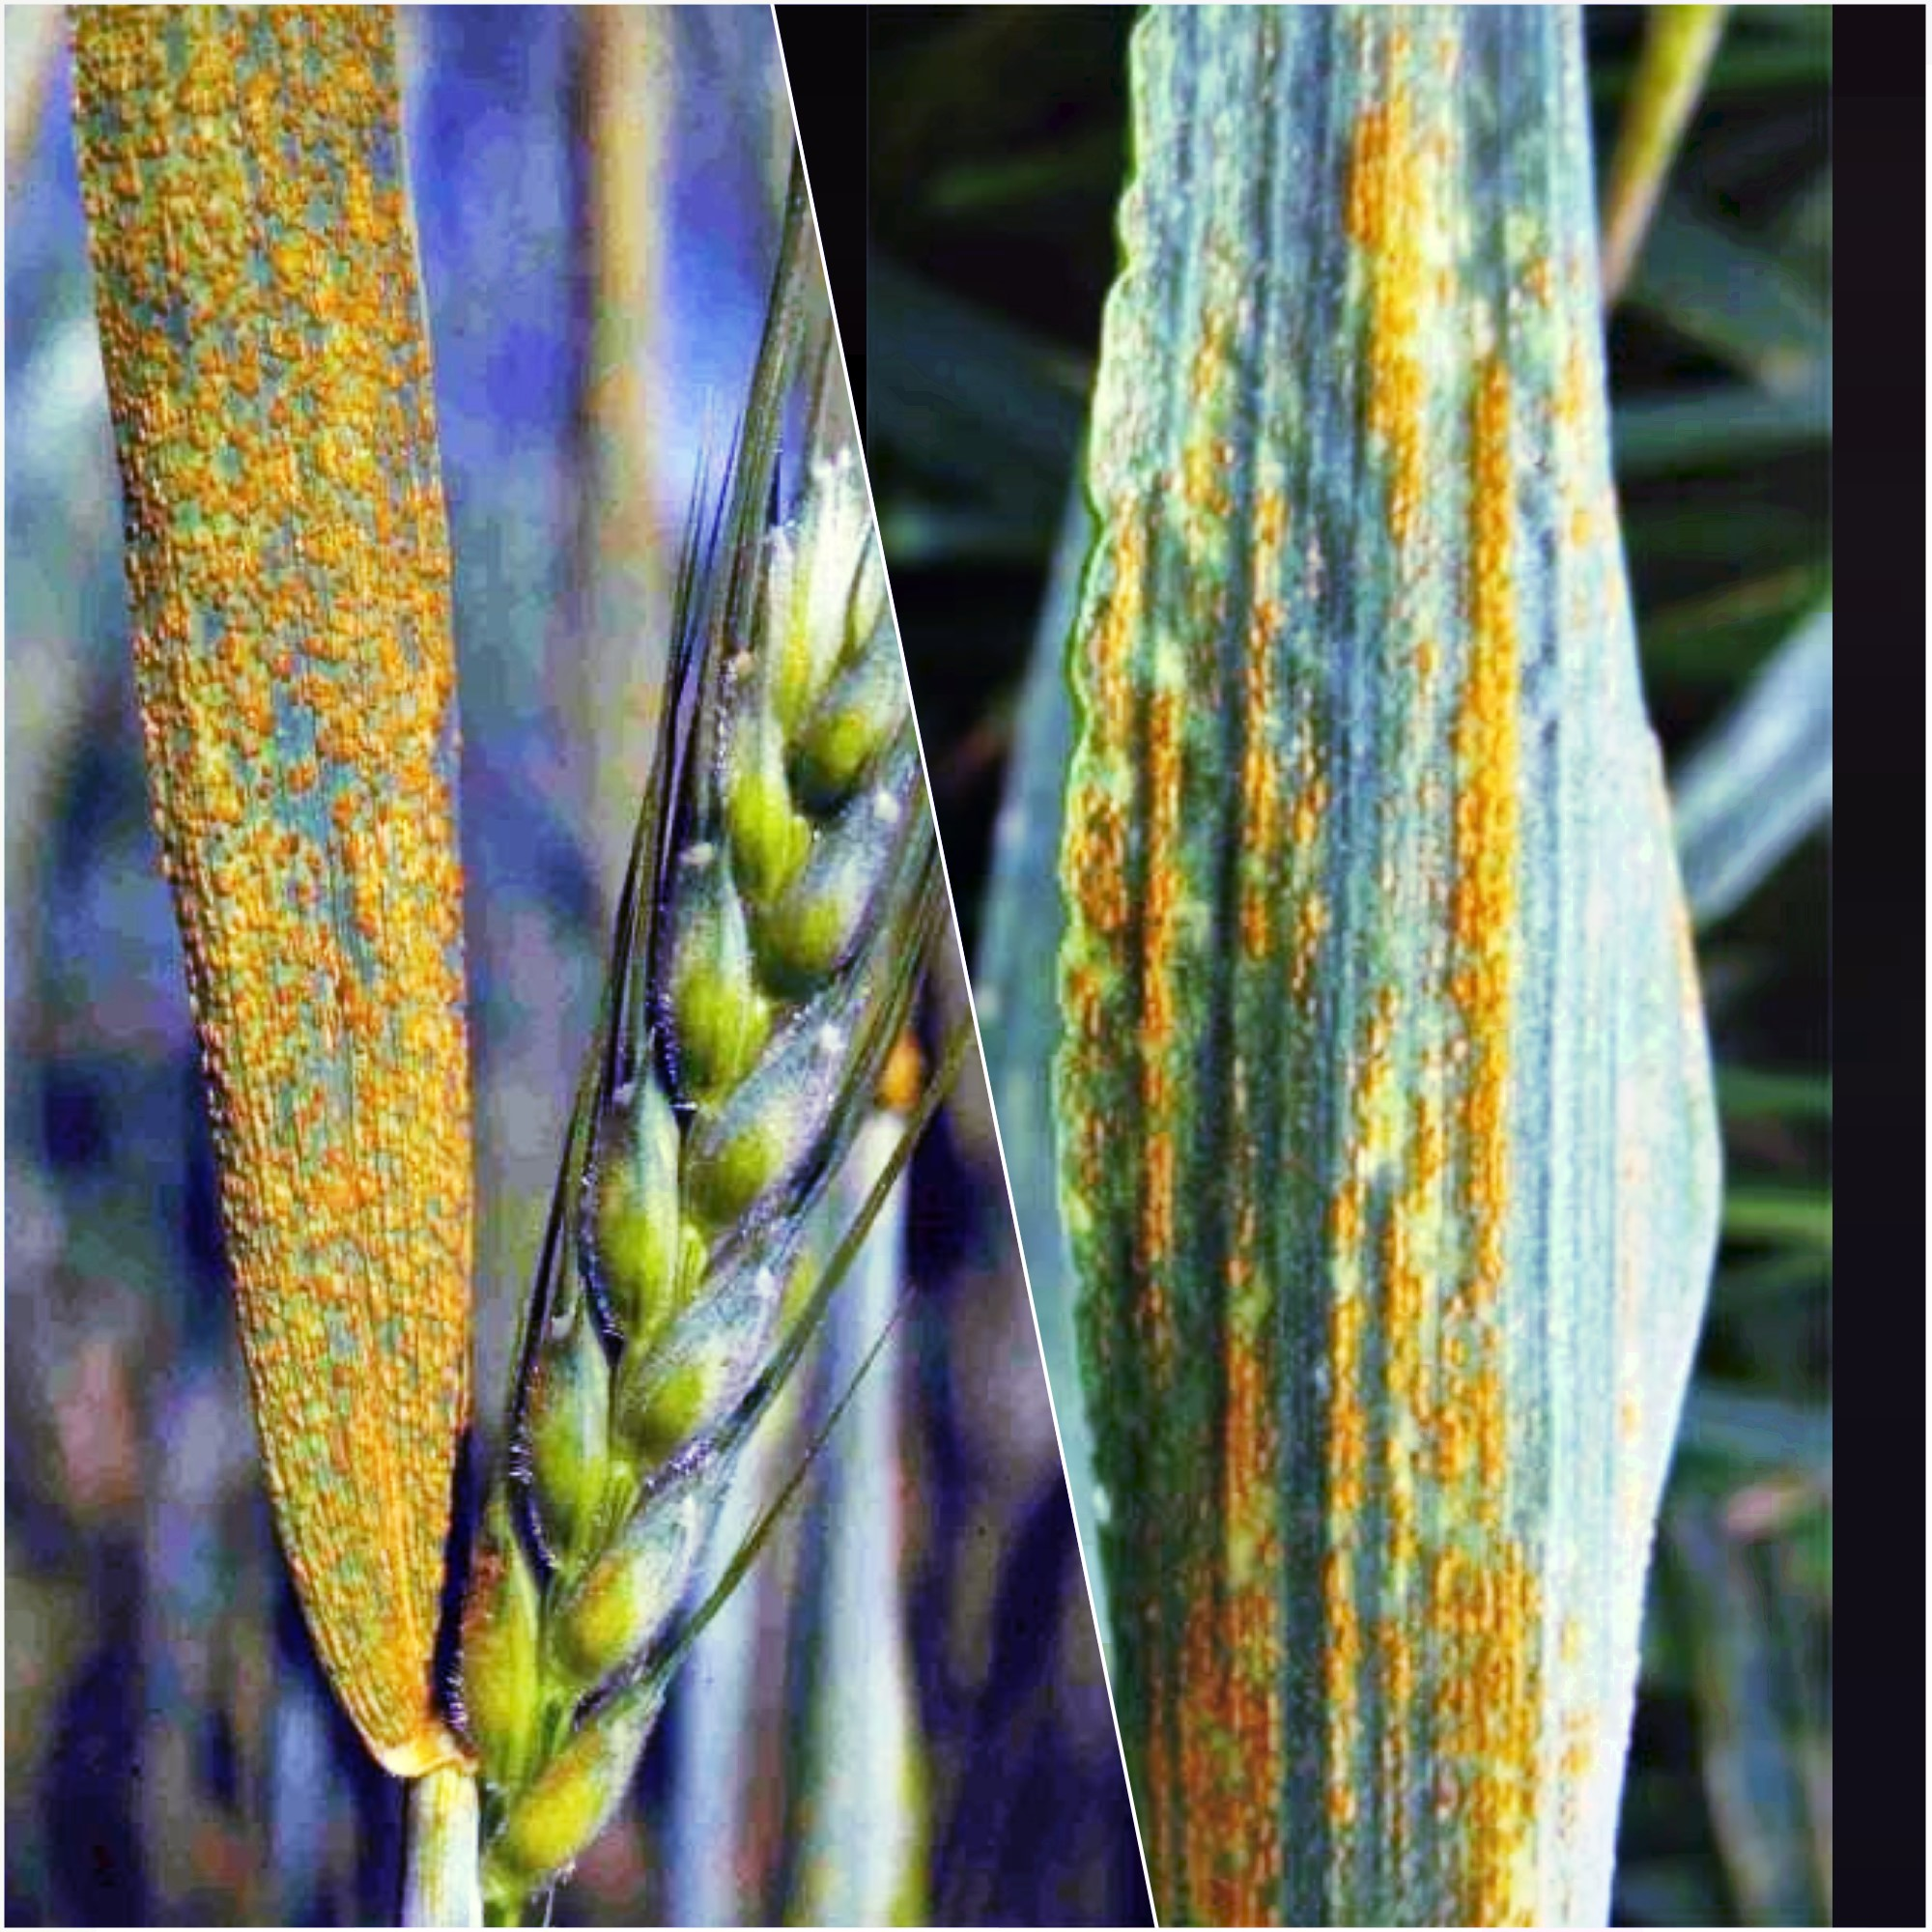Leaf Rust: (1054, 258, 1663, 1905), (58, 111, 479, 1663)
